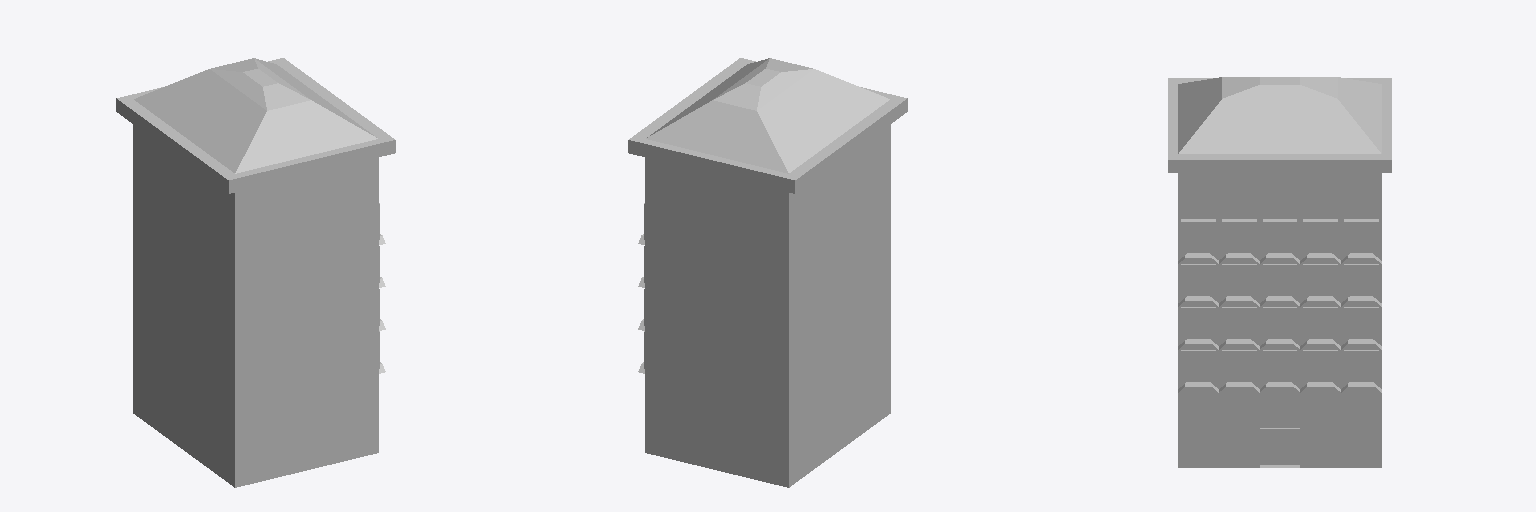
File: medium_house_2.obj
3 renders of one model, left to right at view 1: azimuth 30°, elevation 25°; view 2: azimuth 150°, elevation 25°; view 3: azimuth 270°, elevation 25°, orthographic.
Visible parts, largest first — view 1: Building10; view 2: Building10; view 3: Building10.
Part boxes in pixels (x1,y1,x2,y2): Building10: (116, 58, 395, 487); Building10: (628, 58, 907, 487); Building10: (1168, 77, 1391, 467).
Bounding box in the file's own units: 4.26 × 8.64 × 4.96.